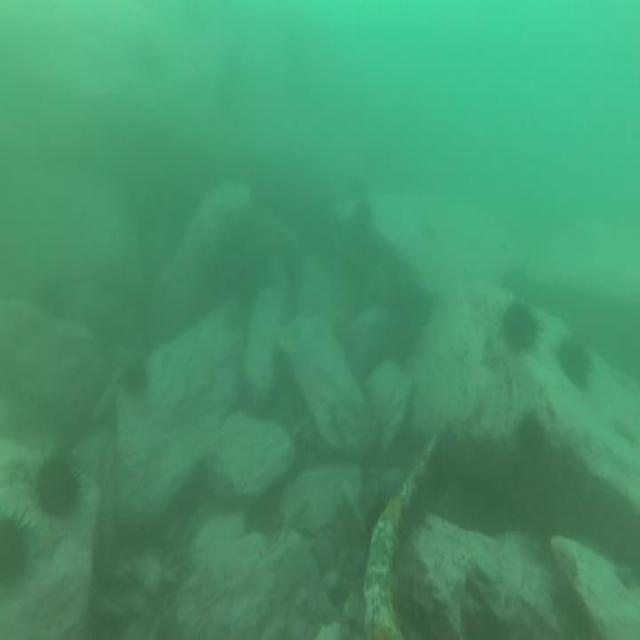echinus: (31, 446, 88, 524), (0, 508, 44, 608), (497, 291, 543, 358), (554, 326, 594, 398), (29, 270, 75, 327), (516, 408, 548, 468), (116, 352, 150, 402)
